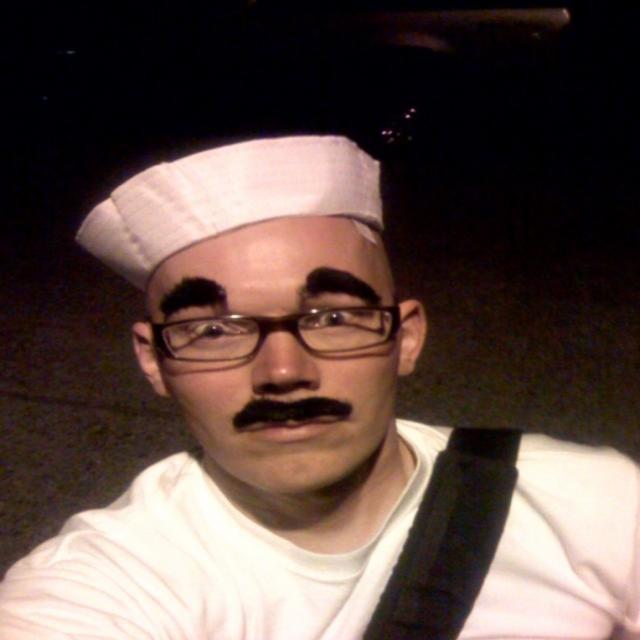Glasses: (148, 304, 404, 368)
